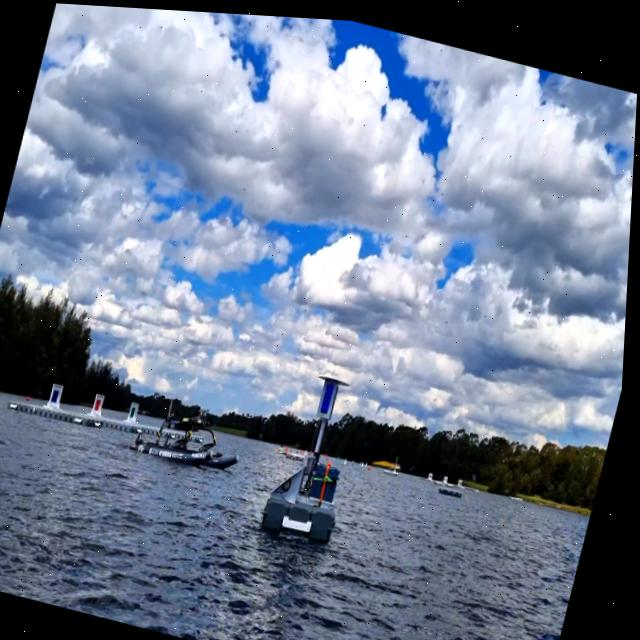led: (323, 377, 340, 413)
